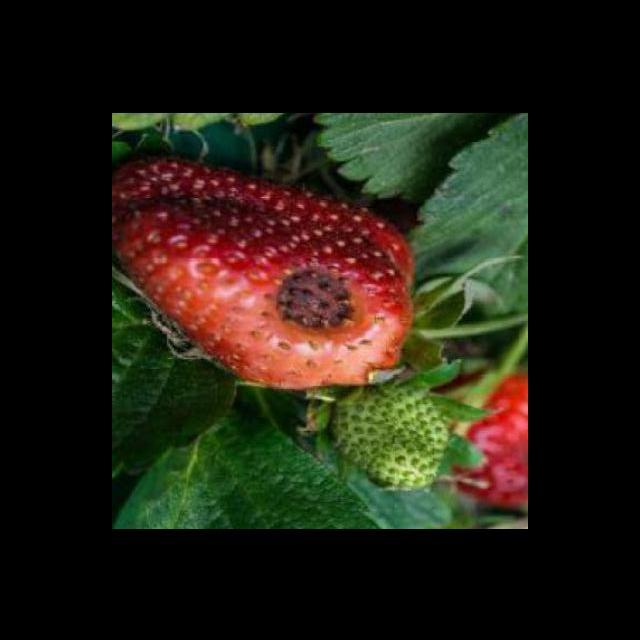Anthracnose Fruit Rot: (269, 260, 356, 341)
